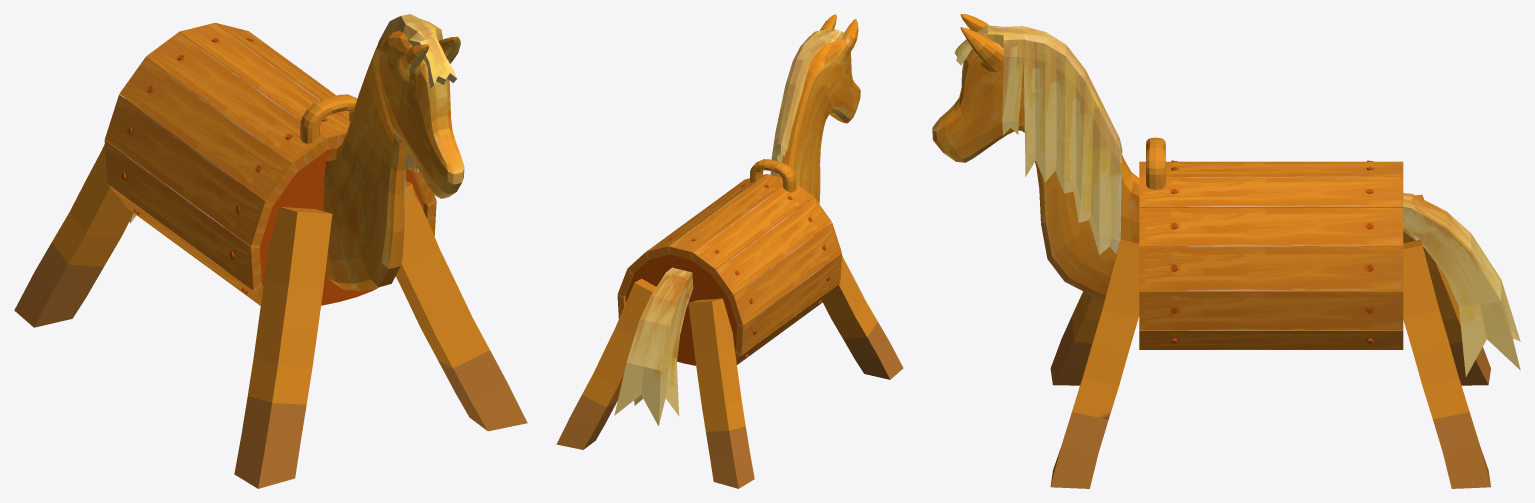
Rendered from WoodenHorse_fixed.fbx.
The picture shows the model from 3 angles, left to right: view 1: azimuth 30°, elevation 25°; view 2: azimuth 150°, elevation 25°; view 3: azimuth 270°, elevation 25°; orthographic projection. The views are drawn at different scales.
Visible parts, largest first — view 1: Cube.001, Cube.004, Cube, Circle, Cube.008, Cube.002; view 2: Cube.001, Cube.004, Cube.009, Cube, Circle, Cube.008, Cube.002; view 3: Cube.001, Cube.004, Cube.008, Cube, Cube.009, Cube.002.
Part boxes in pixels (bbox=[...]): Cube.001: bbox=[104, 23, 436, 305]; Cube.004: bbox=[14, 99, 527, 488]; Cube: bbox=[323, 31, 464, 291]; Circle: bbox=[128, 101, 423, 305]; Cube.008: bbox=[378, 14, 456, 196]; Cube.002: bbox=[300, 94, 357, 143]; Cube.001: bbox=[617, 174, 841, 364]; Cube.004: bbox=[556, 225, 903, 488]; Cube.009: bbox=[614, 267, 693, 426]; Cube: bbox=[778, 14, 860, 203]; Circle: bbox=[625, 227, 825, 365]; Cube.008: bbox=[770, 29, 854, 176]; Cube.002: bbox=[750, 159, 796, 192]; Cube.001: bbox=[1139, 161, 1403, 349]; Cube.004: bbox=[1050, 194, 1490, 488]; Cube.008: bbox=[954, 25, 1122, 254]; Cube: bbox=[932, 14, 1139, 299]; Cube.009: bbox=[1403, 193, 1520, 376]; Cube.002: bbox=[1146, 137, 1165, 189].
Size of the model in its own units: 95.03 by 150 by 196.
